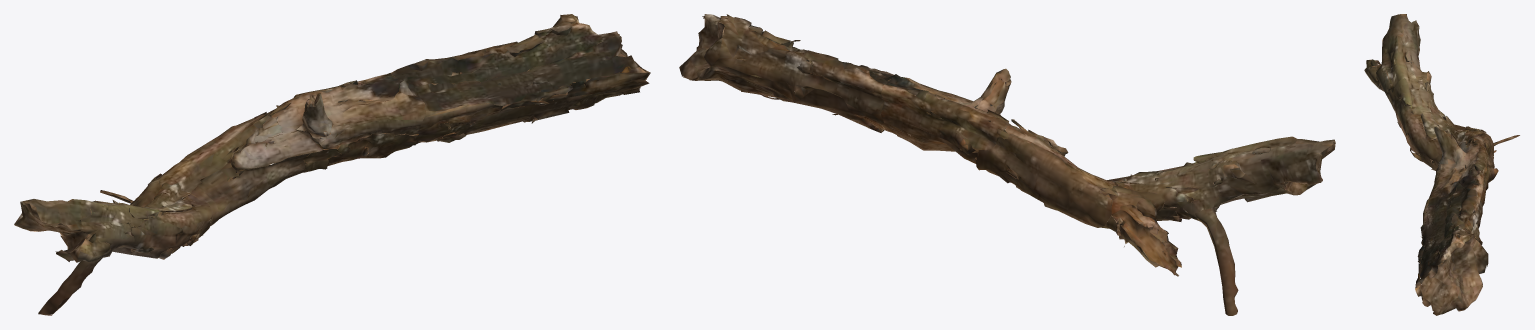
File: dead_tree.glb
3 views of the same model, side by side, from view 1: azimuth 30°, elevation 25°; view 2: azimuth 150°, elevation 25°; view 3: azimuth 270°, elevation 25° (orthographic). The views are drawn at different scales.
Parts seen in each view (by area): view 1: dead_tree; view 2: dead_tree; view 3: dead_tree.
Boxes of the visible parts, bbox=[...] form: dead_tree: bbox=[14, 14, 650, 315]; dead_tree: bbox=[679, 14, 1335, 315]; dead_tree: bbox=[1364, 14, 1519, 315].
Size of the model in its own units: 4.2 by 1.1 by 1.09.
Materials: 1 (1 with a texture image).
